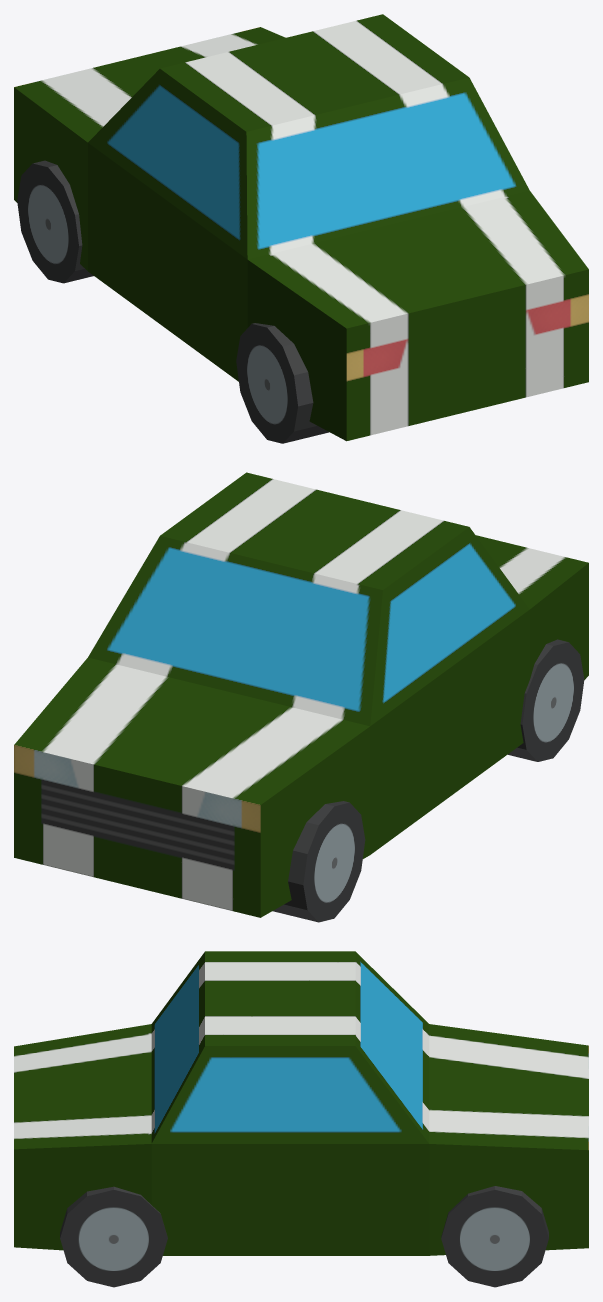
Rendered from Racecar.fbx.
3 views of the same model, one above another, from view 1: azimuth 30°, elevation 25°; view 2: azimuth 150°, elevation 25°; view 3: azimuth 270°, elevation 25° (orthographic). The views are drawn at different scales.
Visible parts, largest first — view 1: Cube; view 2: Cube; view 3: Cube.
Boxes of the visible parts, bbox=[...] form: Cube: bbox=[14, 14, 588, 443]; Cube: bbox=[14, 472, 588, 922]; Cube: bbox=[14, 951, 588, 1287].
Size of the model in its own units: 200 by 175 by 400.
